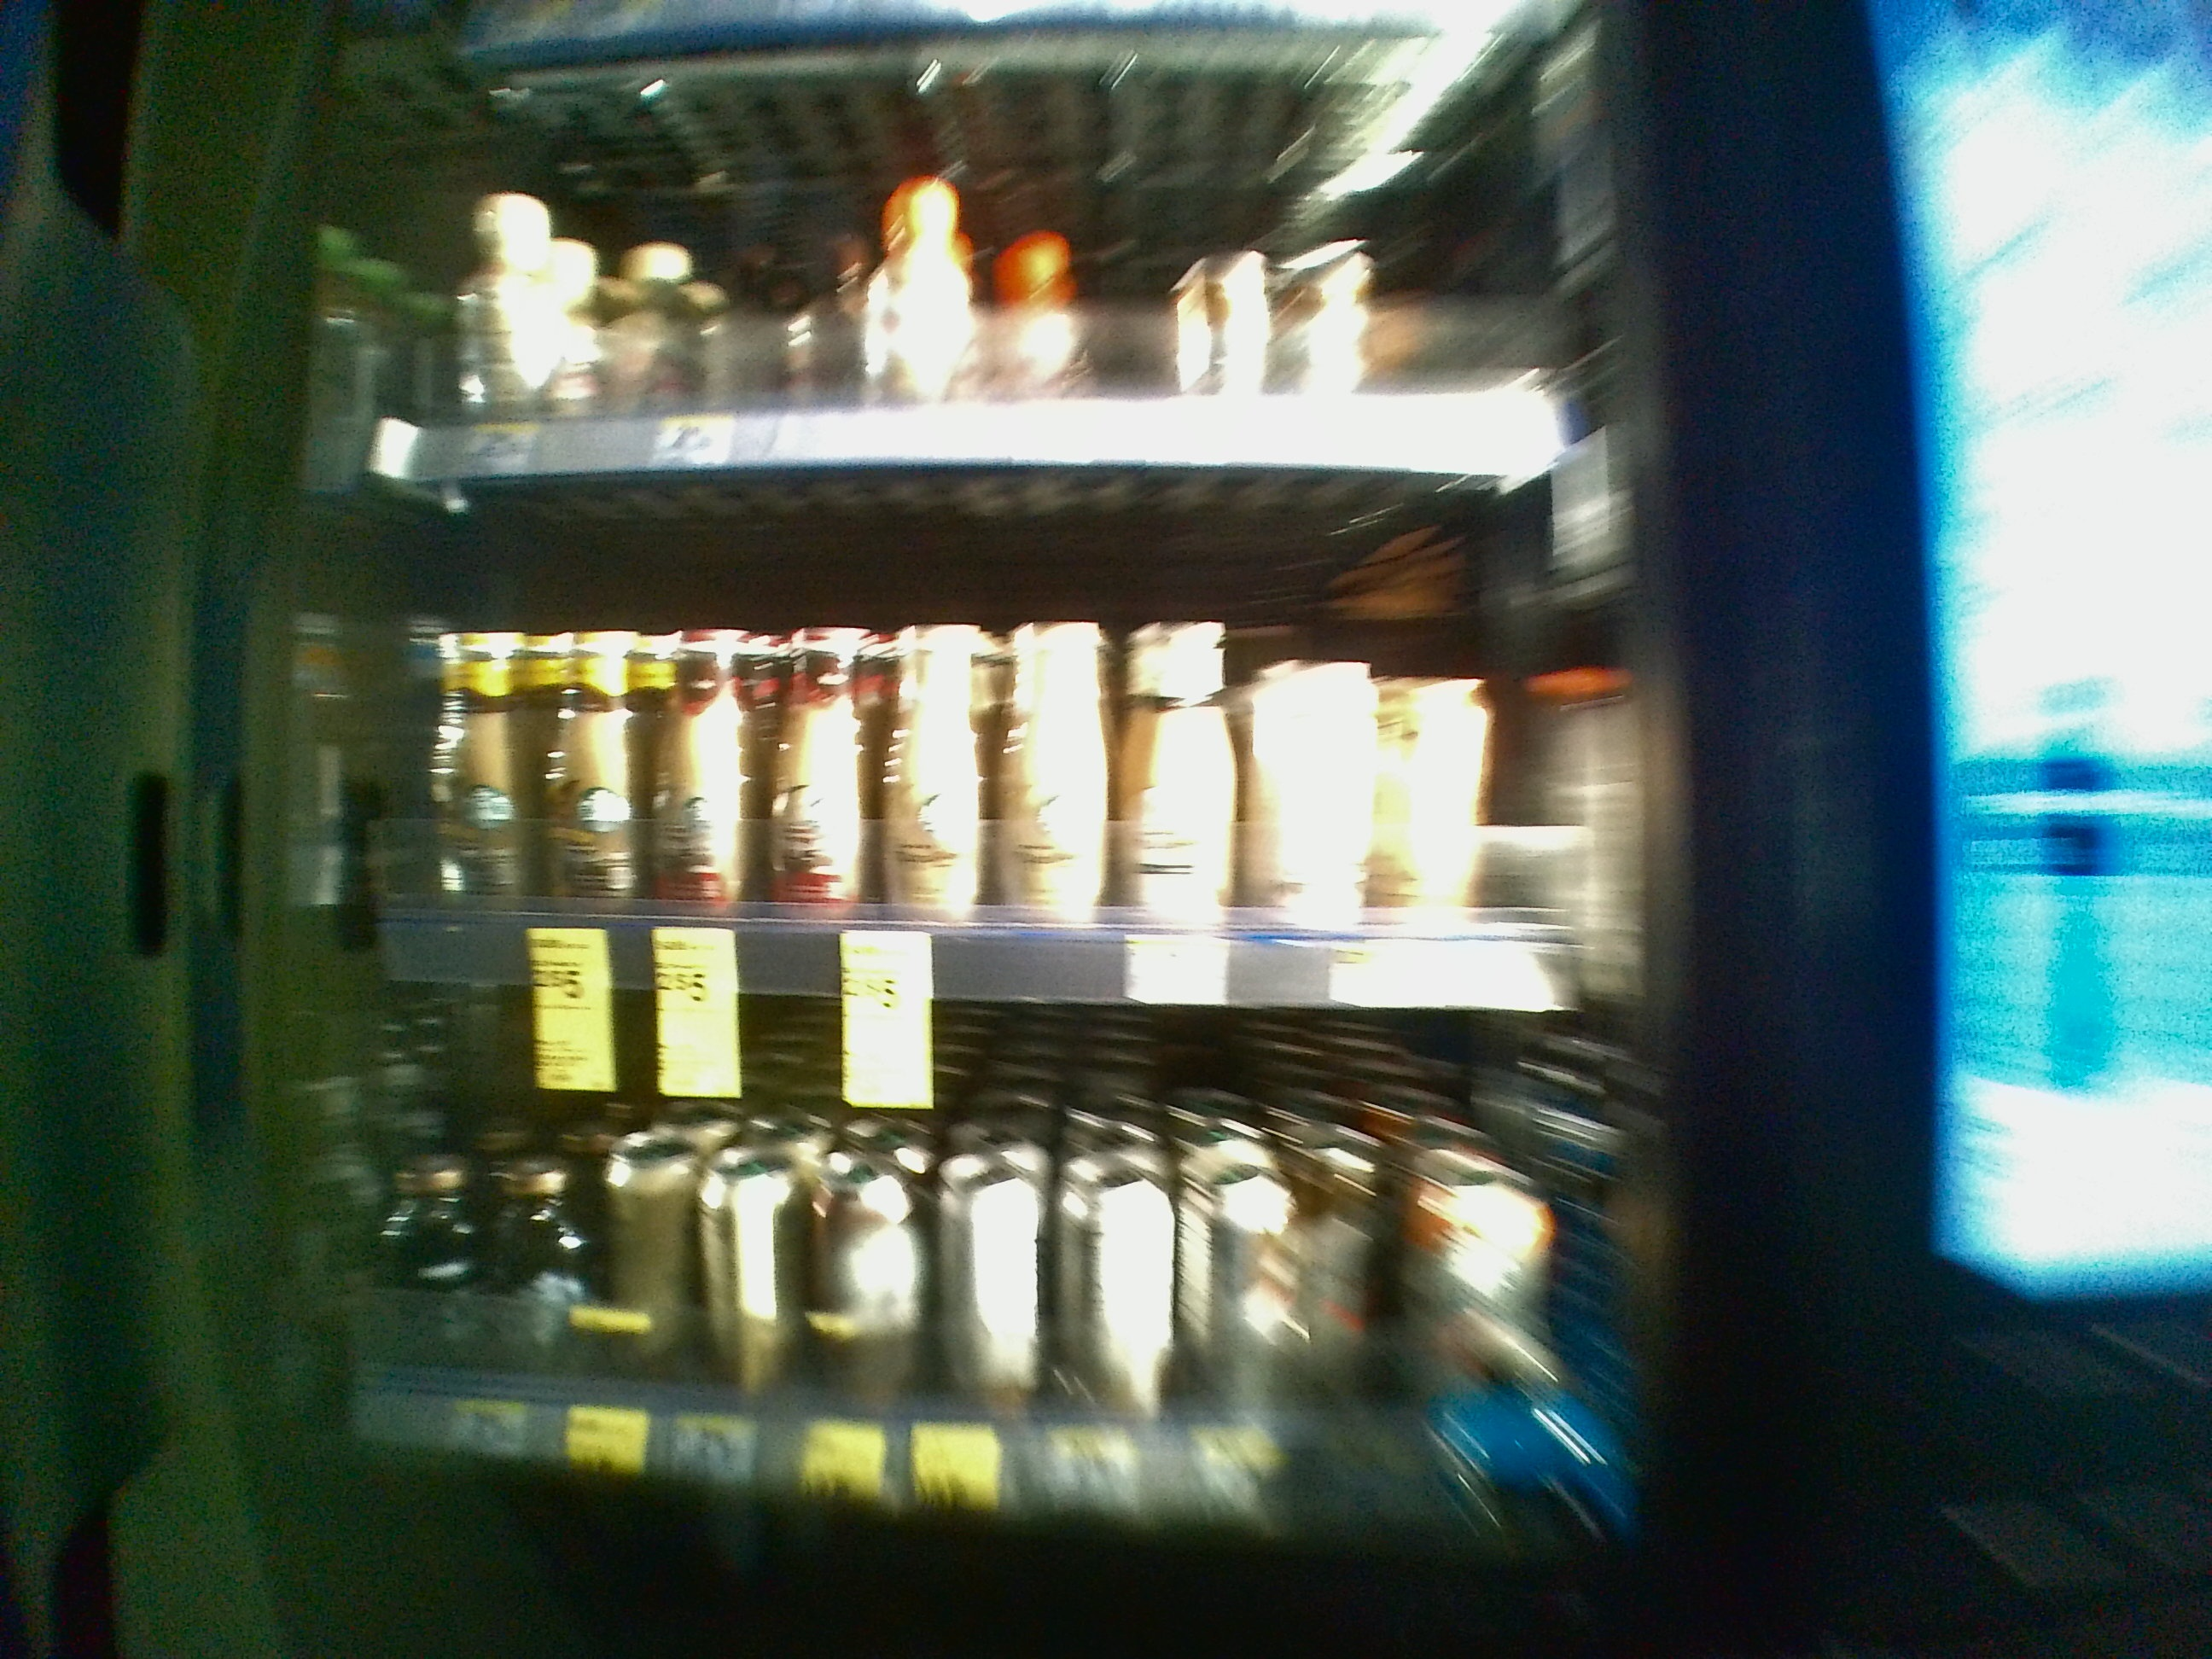shelf: (277, 981, 1686, 1560), (284, 481, 1681, 999)
